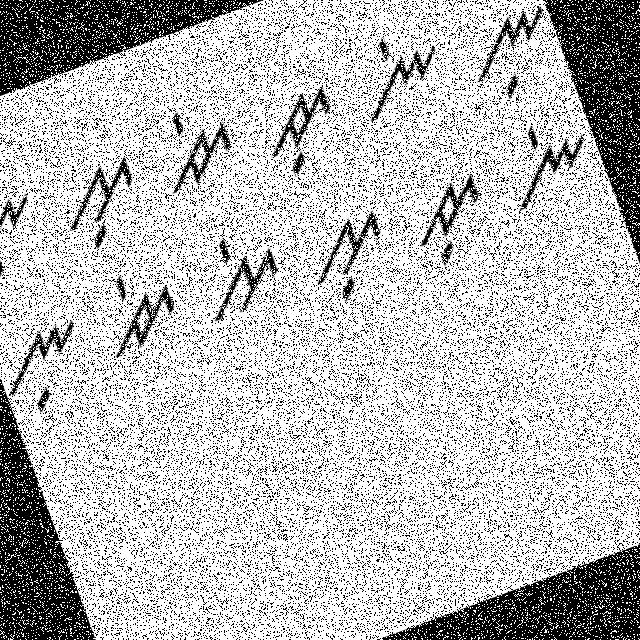je: (85, 252, 193, 364), (142, 88, 248, 200)
ju: (240, 70, 355, 190), (396, 161, 503, 272)
nye: (487, 103, 606, 220), (342, 17, 458, 126)
nyu: (455, 0, 572, 111), (0, 308, 103, 426), (0, 183, 60, 296)
se: (182, 219, 300, 329)
su: (42, 150, 156, 264), (294, 202, 404, 311)
